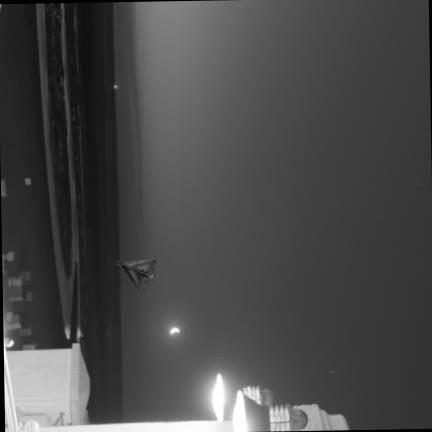Shahed: (115, 260, 156, 290)
